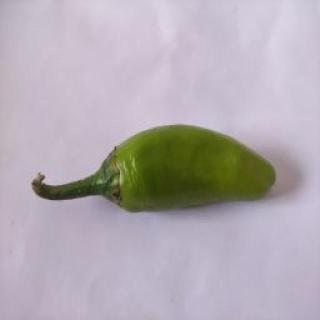Cabai Hijau: (30, 122, 280, 216)
